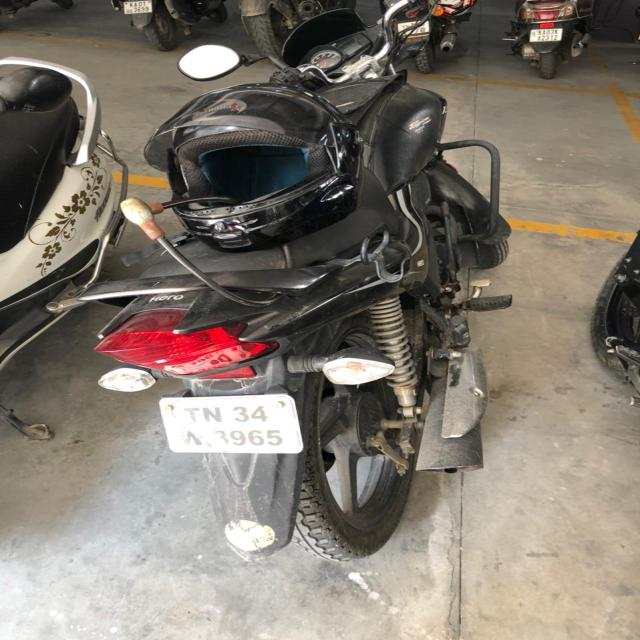number plate: (158, 392, 304, 454)
